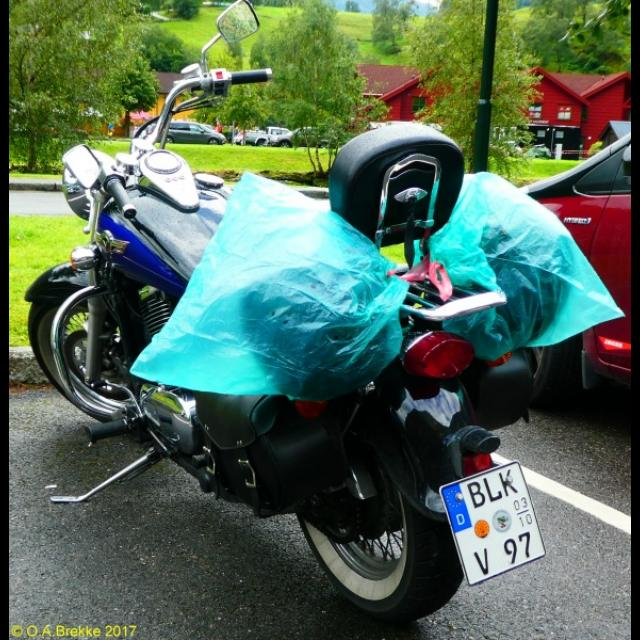d_license_plate: (439, 460, 545, 584)
